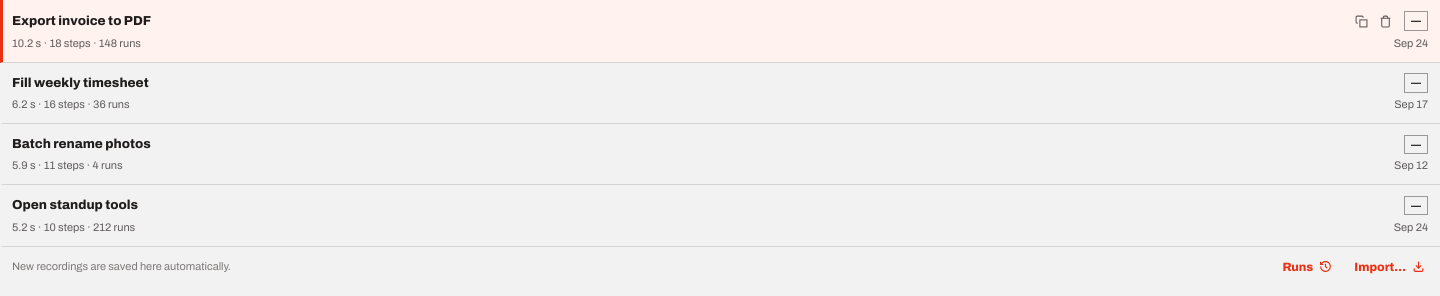
Test: Run history › an empty history says so
This screenshot has width=1440, height=296.
Click the button "Runs": [1307, 267] box [1275, 255, 1339, 279]
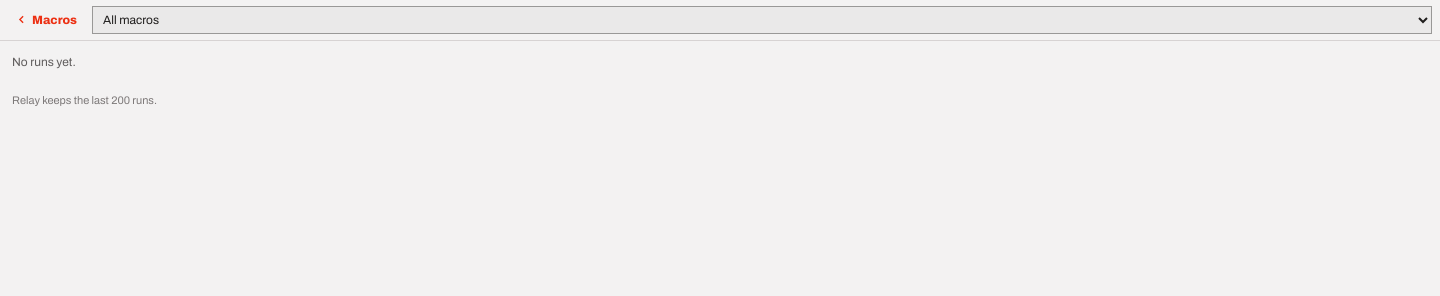
Expected: the text "No runs yet." is shown, [12, 55, 76, 69]
